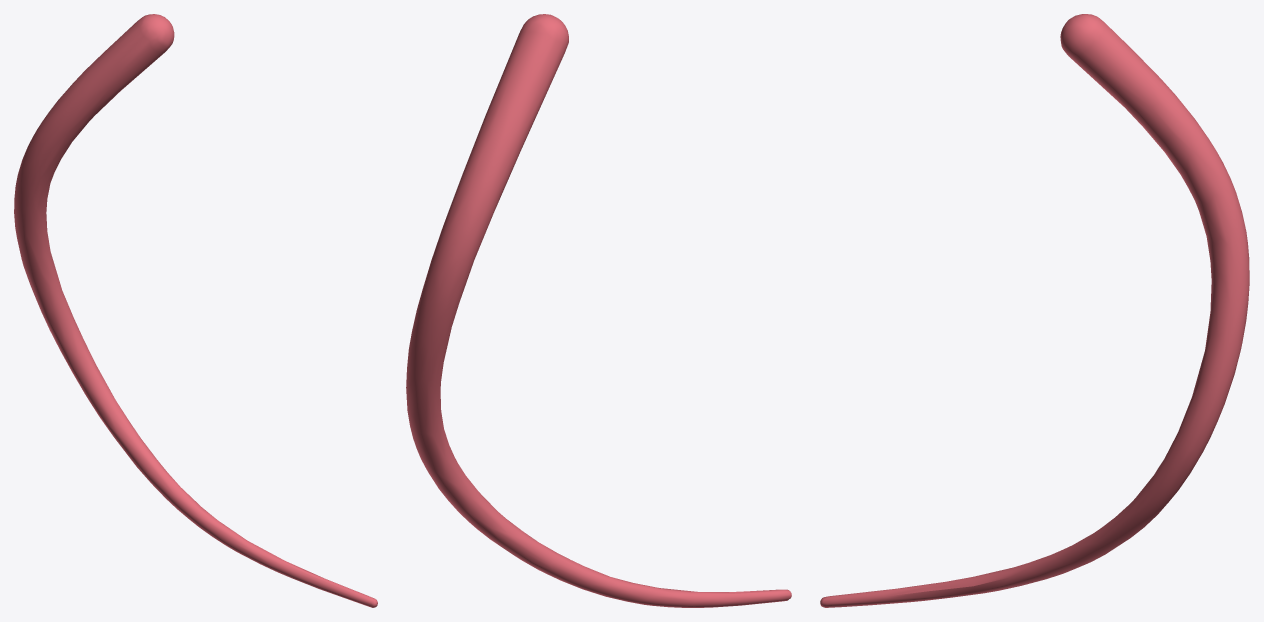
The model's file is fma15797_fj3120.glb.
3 views of the same model, side by side, from view 1: azimuth 90°, elevation 25°; view 2: azimuth 150°, elevation 25°; view 3: azimuth 270°, elevation 25° (orthographic). The views are drawn at different scales.
Visible parts, largest first — view 1: FMA15797_FJ3120; view 2: FMA15797_FJ3120; view 3: FMA15797_FJ3120.
Part boxes in pixels (left/top/right/bottom): FMA15797_FJ3120: left=14, top=14, right=377, bottom=607; FMA15797_FJ3120: left=406, top=14, right=791, bottom=607; FMA15797_FJ3120: left=820, top=14, right=1249, bottom=607.
Bounding box in the file's own units: 0.0146 × 0.0483 × 0.0292.
